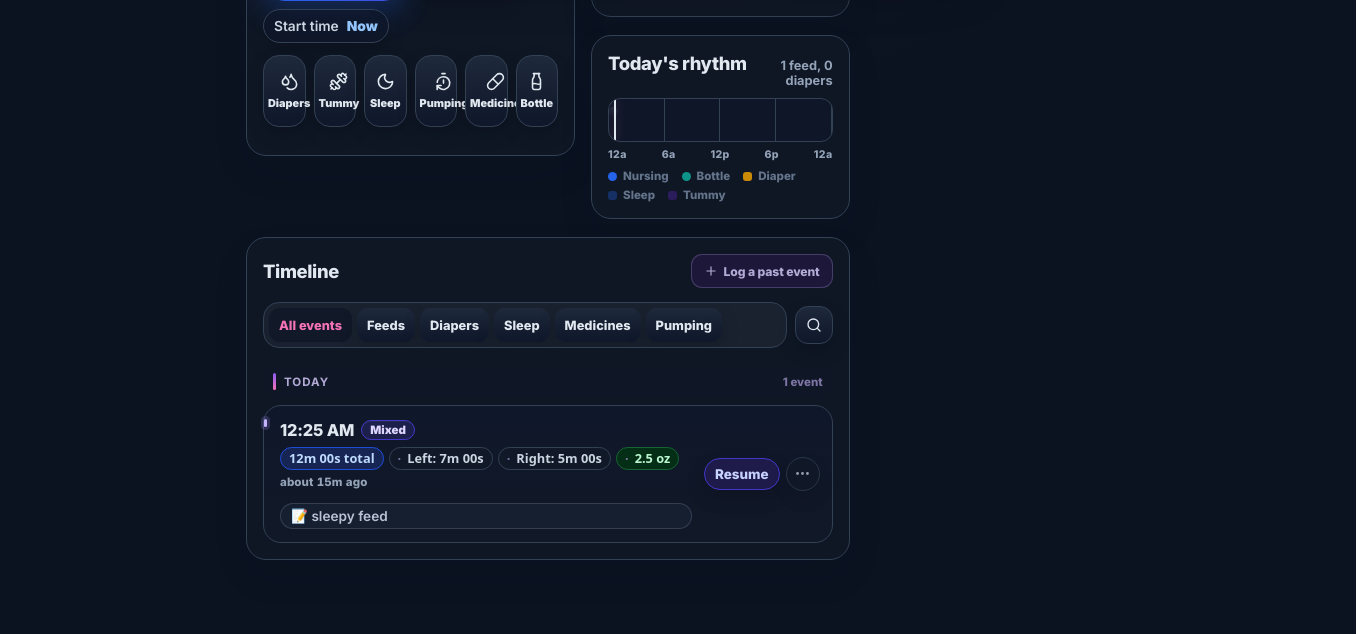
Test: App interactions › keeps timeline rows scan-first with actions tucked into a compact menu
The width and height of the screenshot is (1366, 634).
(page scrolled)
Expected: the text "12m 00s total" is shown, [280,447,384,470]
Expected: the text "Left: 7m 00s" is shown, [388,447,493,470]
Click the button named "Entry actions": (803, 474) [786,457,820,491]
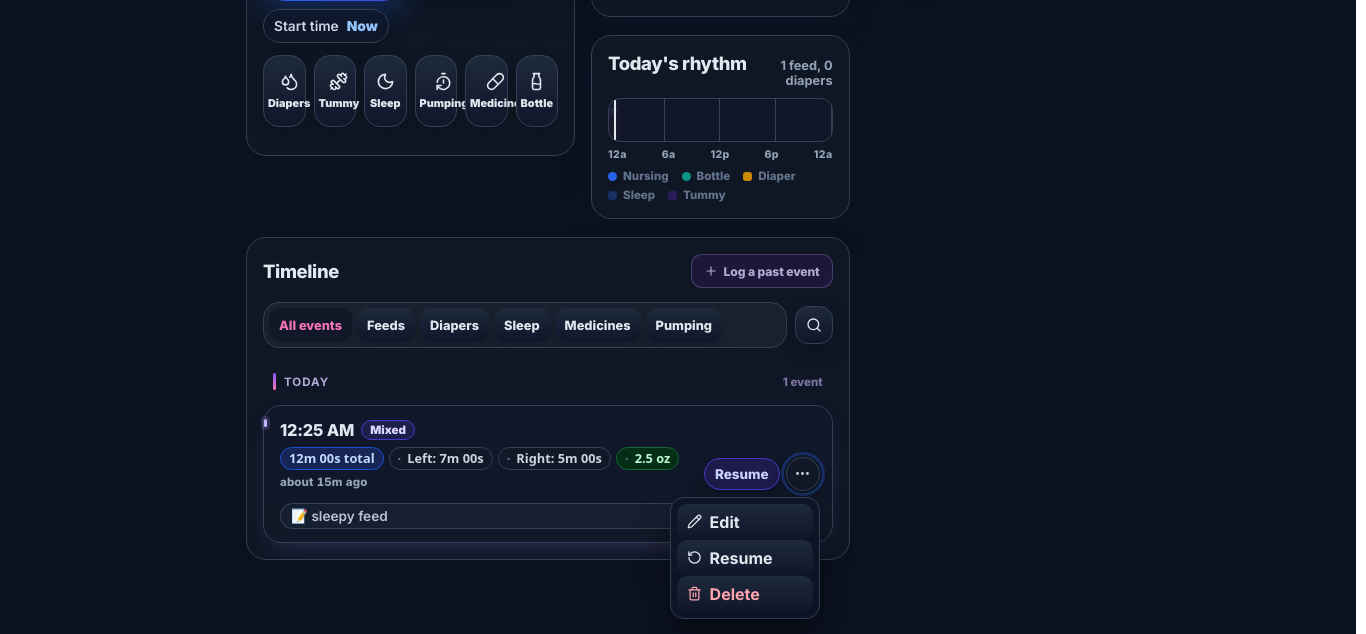
Expected: the menu item with aria-label "Resume session" is shown, [677,540,813,576]
Expected: the menu item with aria-label "Edit entry" is shown, [677,504,813,540]
Expected: the menu item with aria-label "Delete entry" is shown, [677,576,813,612]
